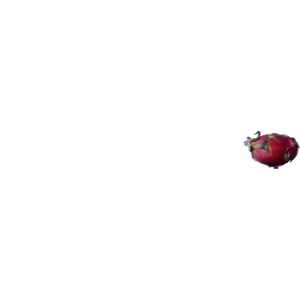pitaia: (245, 131, 300, 169)
